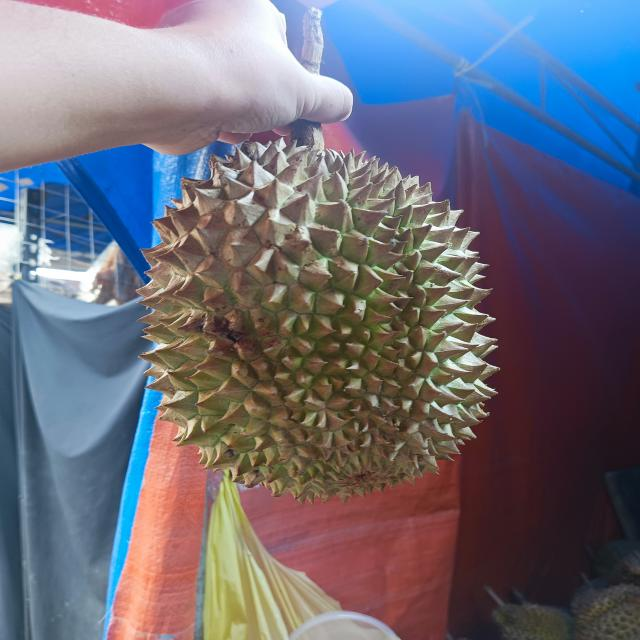mature: (133, 134, 498, 503)
